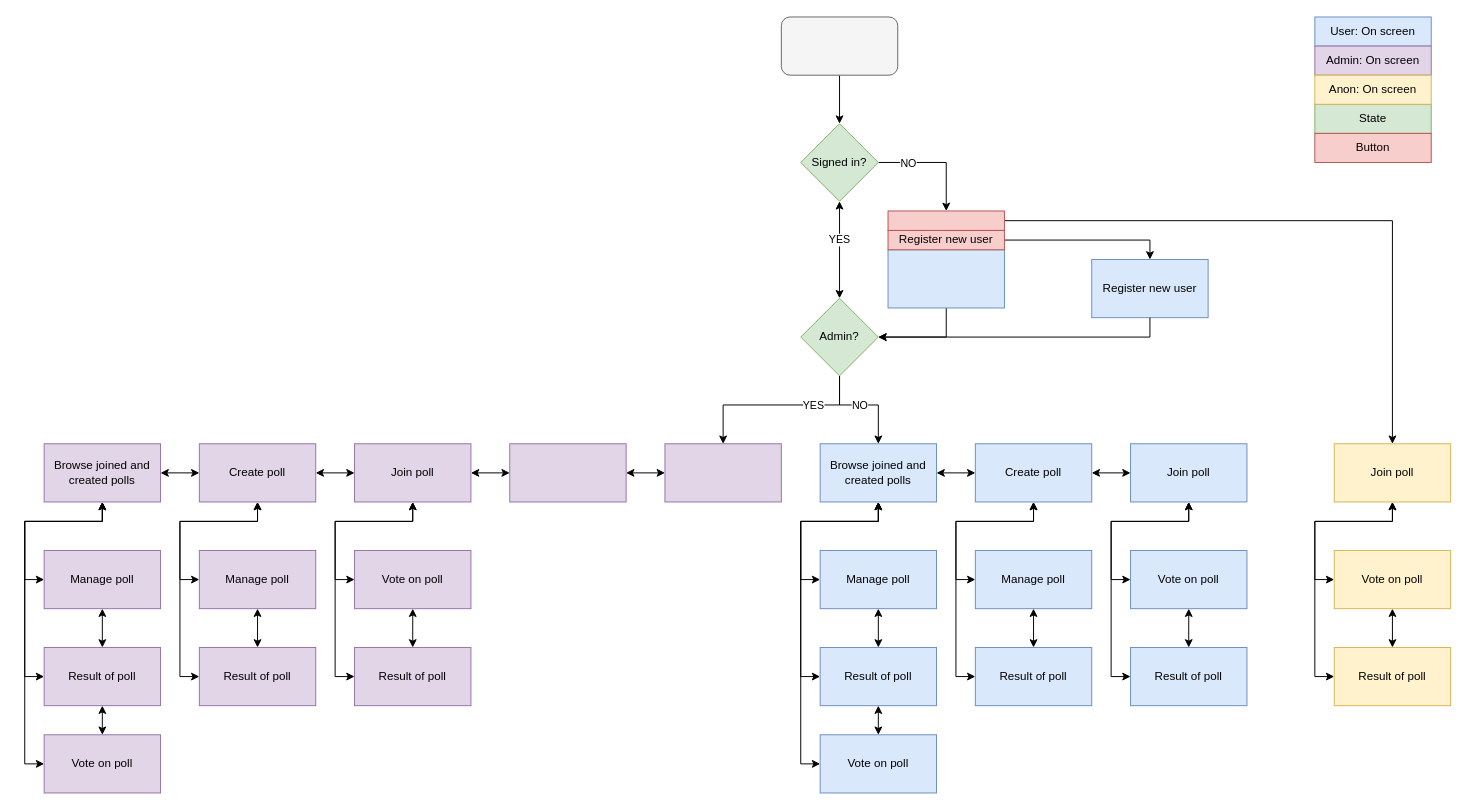
Image size: 1468x810. Some labels were removed from this diagram. The shapes that lost their labels are listed below. From the top down, each one's centre as x and y in pixels, then its label:
At point 839,45: "Open FeedApp".
At point 945,220: "Login as anon".
At point 945,278: "Sign in".
At point 567,472: "Delete account".
At point 722,472: "Delete poll".
